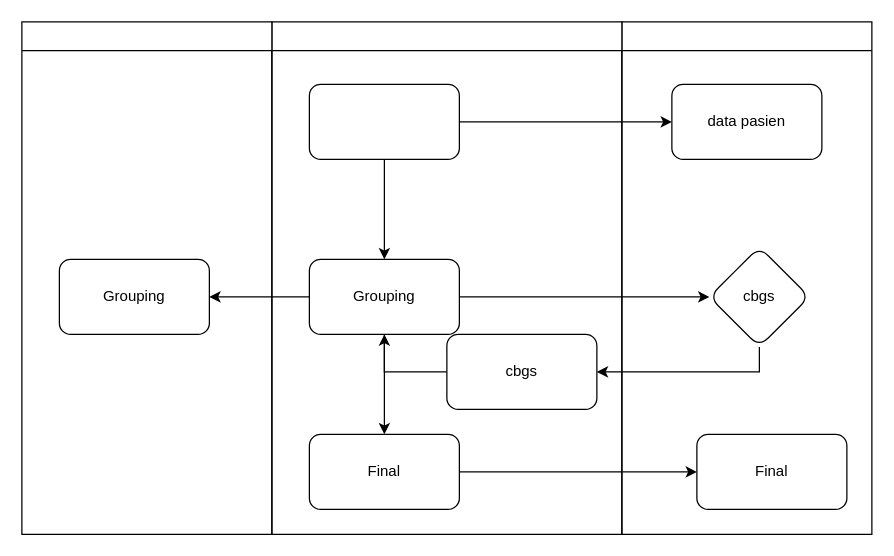
This 894x556 diagram has some shape labels left out. Each missing label, with the box of its shape:
AR: (21, 21, 272, 534)
Eklaim: (621, 21, 872, 534)
Klaim baru: (308, 83, 459, 159)
Tera: (271, 21, 622, 534)
